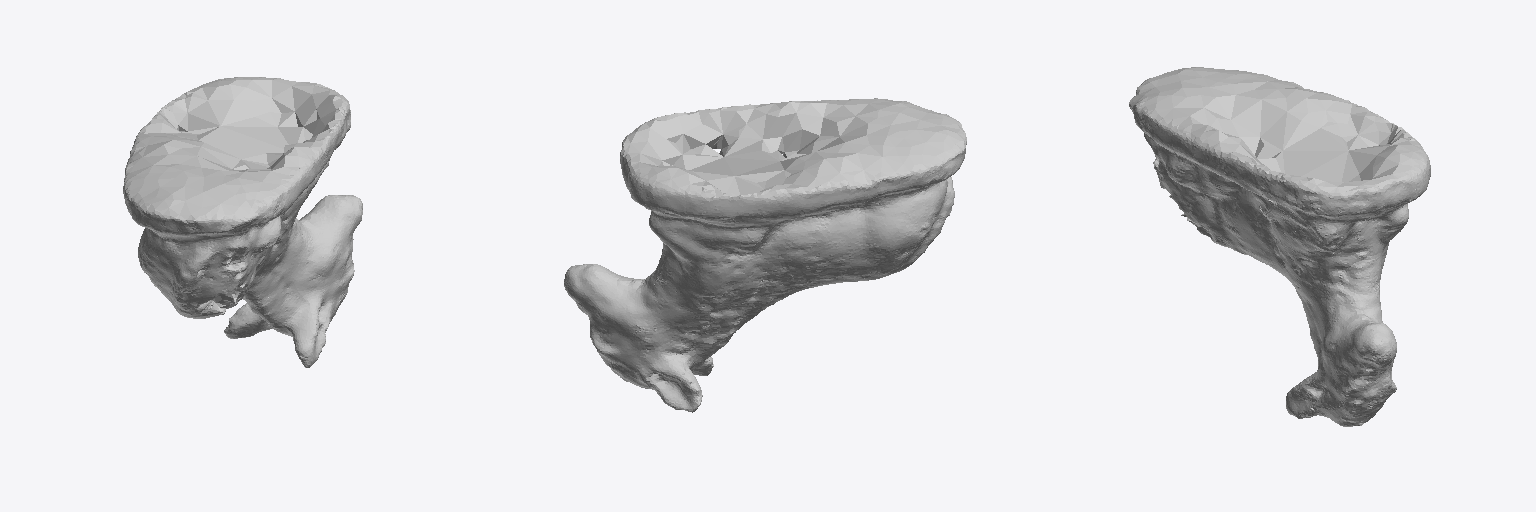
The model's file is burro.obj.
3 renders of one model, left to right at view 1: azimuth 30°, elevation 25°; view 2: azimuth 150°, elevation 25°; view 3: azimuth 270°, elevation 25°, orthographic.
Parts seen in each view (by area): view 1: TexturedMesh; view 2: TexturedMesh; view 3: TexturedMesh.
Boxes of the visible parts, x1,y1,x2,y2 form: TexturedMesh: [123, 77, 362, 367]; TexturedMesh: [564, 98, 966, 412]; TexturedMesh: [1129, 67, 1430, 426].
Bounding box in the file's own units: 1.17 × 0.9485 × 0.9991.